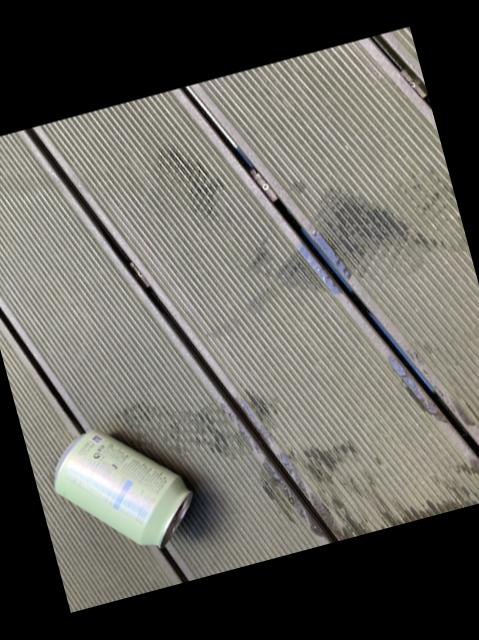metal: (52, 430, 189, 546)
